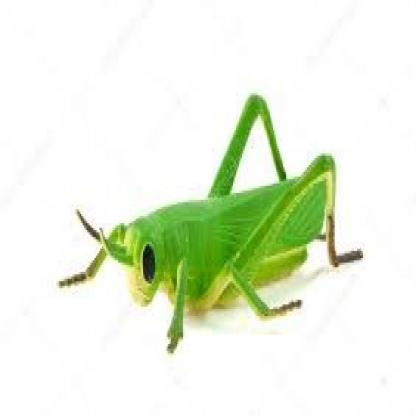grasshopper: (54, 90, 367, 350)
